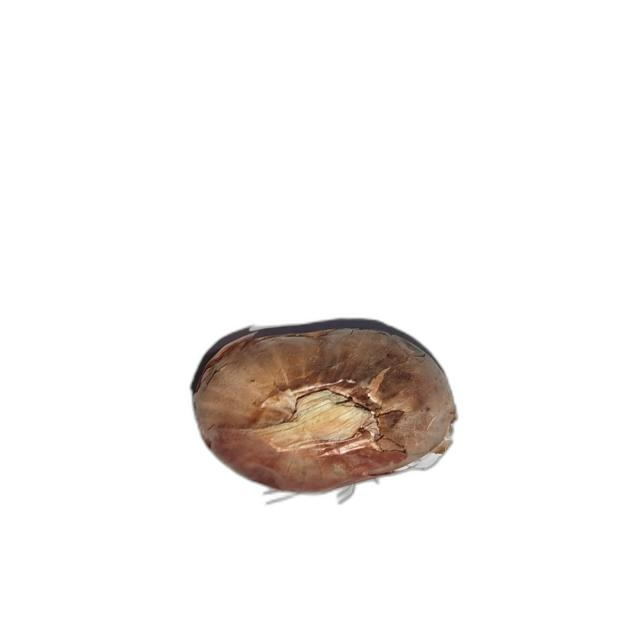onion: (190, 327, 460, 496)
